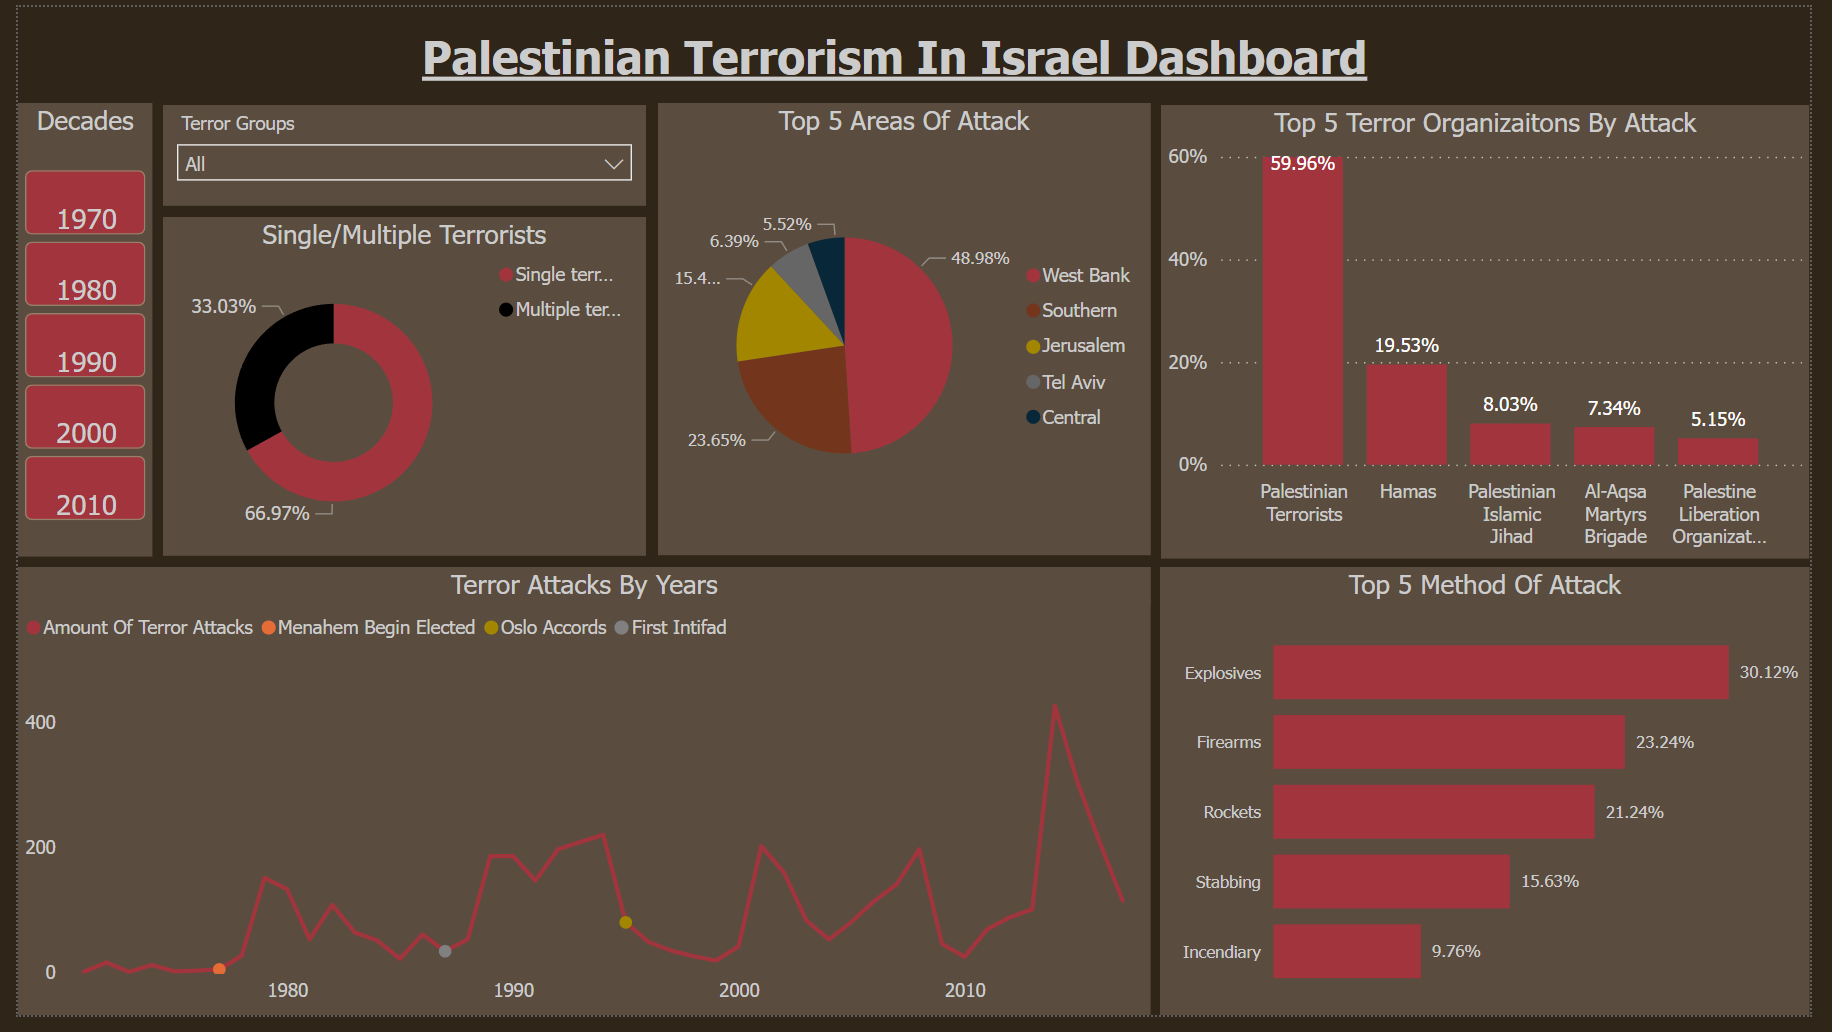

This screenshot's page, from the dashboard's own definition file:
{"tool":"powerbi","page":{"name":"Page 1","canvas":[1280,720],"ordinal":0},"visuals":[{"type":"columnChart","title":"Top 5 Terror Organizaitons By Attack","fields":{"Category":["new_israel.gname"],"Y":["new_israel.gname"]},"box":[816.6,69.7,463.3,323.9],"z":0},{"type":"advancedSlicerVisual","title":"Decades","fields":{"Values":["new_israel.Decade"]},"box":[0,68.4,96,324.4],"z":1000},{"type":"barChart","title":"Top 5 Method Of Attack","fields":{"Category":["new_israel.weapsubtype1_txt"],"Y":["new_israel.weapsubtype1_txt"]},"box":[816,400,464,320],"z":2000},{"type":"pieChart","title":"Top 5 Areas Of Attack","fields":{"Category":["new_israel.provstate"],"Y":["new_israel.provstate"]},"box":[457.5,68.7,351.5,323.4],"z":3000},{"type":"donutChart","title":"Single/Multiple Terrorists","fields":{"Category":["new_israel.terrorist_category"],"Y":["new_israel.terrorist_category"]},"box":[103.7,149.9,344.8,242.3],"z":4000},{"type":"lineChart","title":"Terror Attacks By Years","fields":{"Category":["new_israel.approxdate.Variation.Date Hierarchy.Year"],"Y":["new_israel.attacktype1_txt","new_israel.BeginLabel","new_israel.OsloLabel","new_israel.FirstIntifadLabel"]},"box":[0,400,809,320],"z":6000},{"type":"slicer","title":"Terror Groups","fields":{"Values":["new_israel.gname"]},"box":[103.7,69.9,344.8,72.1],"z":7000},{"type":"textbox","box":[283.6,11,715.1,57.5],"z":8000}]}

Visuals, with their boxes in screenshot pixels (x1, y1, x2, y2), scaled from the page's 1280x720 canvas onto the 1832x1032 screenshot:
"Top 5 Terror Organizaitons By Attack" columnChart: {"x1": 1169, "y1": 100, "x2": 1831, "y2": 564}
"Decades" advancedSlicerVisual: {"x1": 0, "y1": 98, "x2": 137, "y2": 563}
"Top 5 Method Of Attack" barChart: {"x1": 1168, "y1": 573, "x2": 1831, "y2": 1031}
"Top 5 Areas Of Attack" pieChart: {"x1": 655, "y1": 98, "x2": 1158, "y2": 562}
"Single/Multiple Terrorists" donutChart: {"x1": 148, "y1": 215, "x2": 642, "y2": 562}
"Terror Attacks By Years" lineChart: {"x1": 0, "y1": 573, "x2": 1158, "y2": 1031}
"Terror Groups" slicer: {"x1": 148, "y1": 100, "x2": 642, "y2": 204}
textbox: {"x1": 406, "y1": 16, "x2": 1429, "y2": 98}
